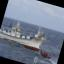fishing boat: (0, 13, 50, 54)
